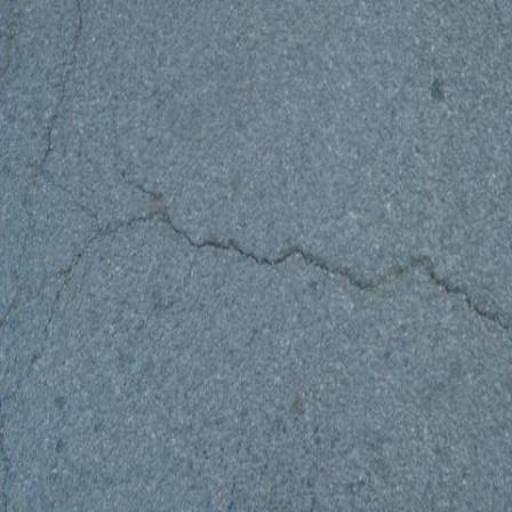spalling: (3, 197, 502, 420), (90, 94, 181, 217)
